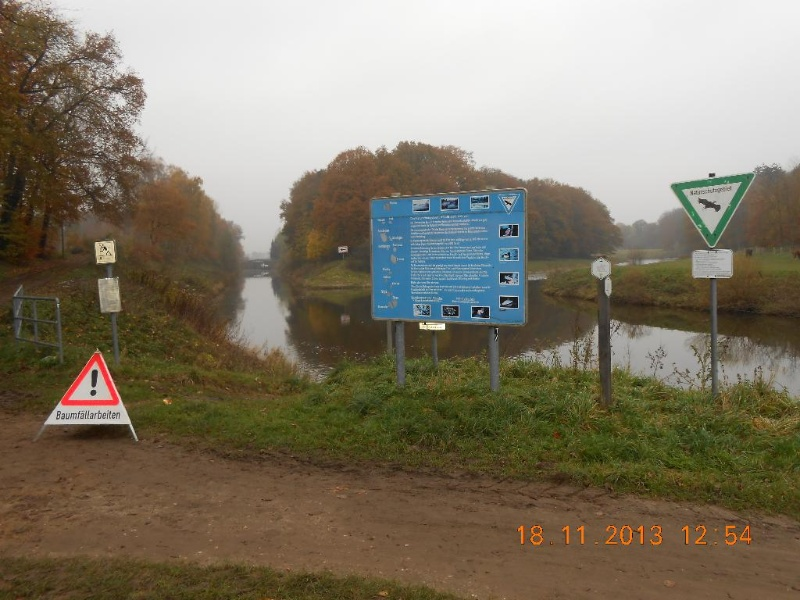warning: (49, 344, 125, 408)
